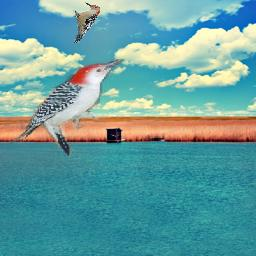Woodpecker: (10, 59, 124, 157), (74, 1, 101, 43)
